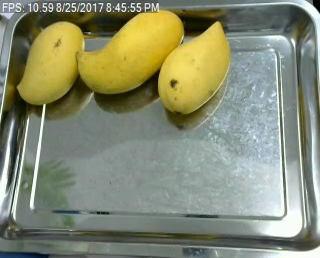Mango: (74, 8, 186, 98), (154, 19, 233, 116), (9, 19, 86, 107)
